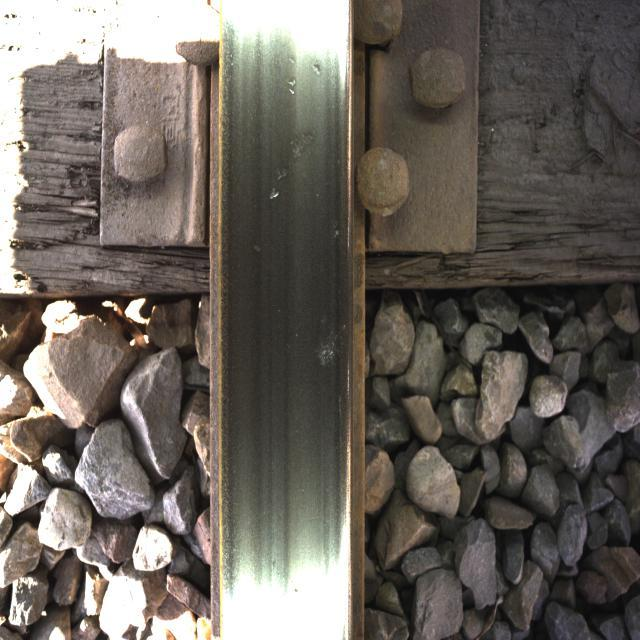crack: (250, 30, 338, 224), (285, 316, 357, 390)
